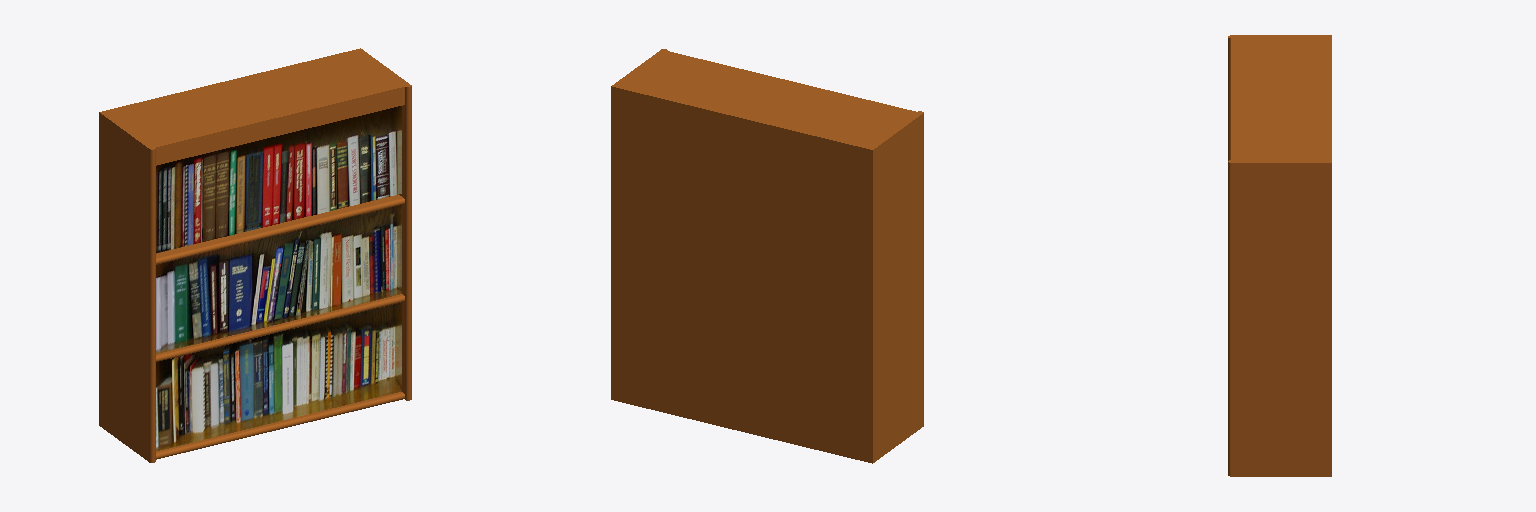
3 views of the same model, side by side, from view 1: azimuth 30°, elevation 25°; view 2: azimuth 150°, elevation 25°; view 3: azimuth 270°, elevation 25° (orthographic).
Parts seen in each view (by area): view 1: Mesh5_Group5_Group1_Model, Mesh4_Group4_Group1_Model, Mesh1_Group2_Group1_Model, Mesh9_Estante___Lateral2_Group1_Model, Mesh3_Group3_Group1_Model, Mesh8_Estante___Lateral1_Group1_Model, Mesh10_Estante___Prateleira3_Group1_Model, Mesh7_Estante___Prateleira2_Group1_Model, Mesh6_Estante___Prateleira1_Group1_Model; view 2: Mesh2_box_Group1_Model, Mesh9_Estante___Lateral2_Group1_Model, Mesh3_Group3_Group1_Model, Mesh8_Estante___Lateral1_Group1_Model; view 3: Mesh8_Estante___Lateral1_Group1_Model, Mesh3_Group3_Group1_Model, Mesh9_Estante___Lateral2_Group1_Model.
Part boxes in pixels (bbox=[...]): Mesh5_Group5_Group1_Model: bbox=[156, 205, 401, 353]; Mesh4_Group4_Group1_Model: bbox=[156, 302, 401, 450]; Mesh1_Group2_Group1_Model: bbox=[156, 106, 401, 253]; Mesh9_Estante___Lateral2_Group1_Model: bbox=[99, 111, 155, 462]; Mesh3_Group3_Group1_Model: bbox=[107, 51, 404, 165]; Mesh8_Estante___Lateral1_Group1_Model: bbox=[356, 48, 411, 400]; Mesh10_Estante___Prateleira3_Group1_Model: bbox=[156, 195, 404, 264]; Mesh7_Estante___Prateleira2_Group1_Model: bbox=[156, 294, 404, 361]; Mesh6_Estante___Prateleira1_Group1_Model: bbox=[156, 392, 404, 459]; Mesh2_box_Group1_Model: bbox=[617, 87, 867, 461]; Mesh9_Estante___Lateral2_Group1_Model: bbox=[867, 111, 923, 463]; Mesh3_Group3_Group1_Model: bbox=[619, 51, 916, 147]; Mesh8_Estante___Lateral1_Group1_Model: bbox=[611, 49, 667, 400]; Mesh8_Estante___Lateral1_Group1_Model: bbox=[1228, 160, 1331, 476]; Mesh3_Group3_Group1_Model: bbox=[1231, 38, 1328, 159]; Mesh9_Estante___Lateral2_Group1_Model: bbox=[1228, 35, 1331, 160].
Size of the model in its own units: 1.48 by 1.69 by 0.5085.
Materials: 4 (1 with a texture image).